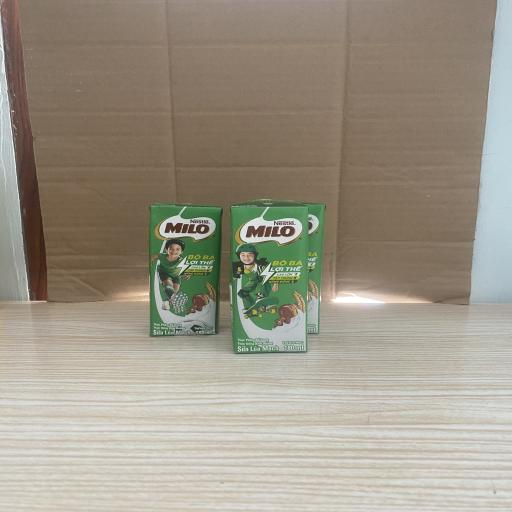milo: (230, 201, 309, 354), (252, 200, 326, 334), (149, 203, 222, 337)
